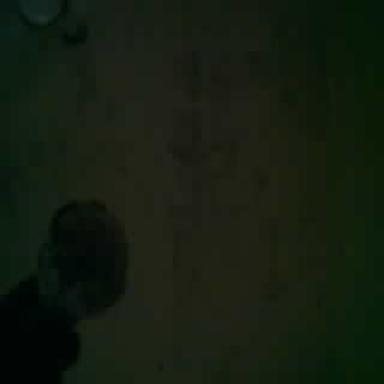paper: (0, 200, 127, 382)
